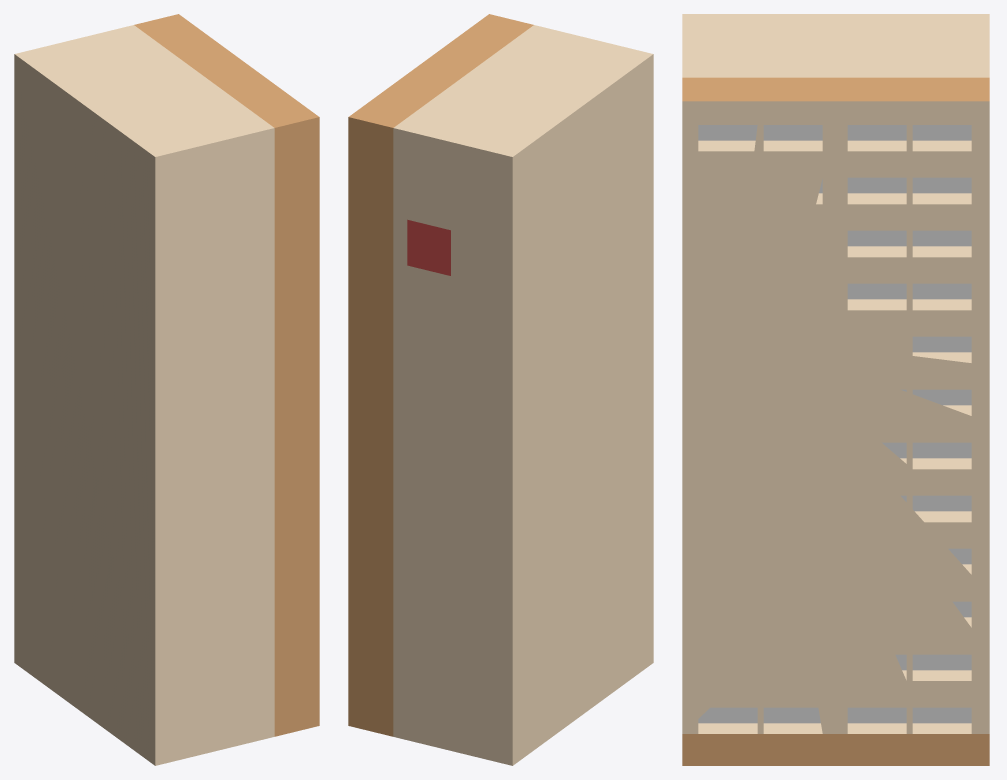
Rendered from Apartment.fbx.
3 renders of one model, left to right at view 1: azimuth 30°, elevation 25°; view 2: azimuth 150°, elevation 25°; view 3: azimuth 270°, elevation 25°, orthographic. The views are drawn at different scales.
Parts seen in each view (by area): view 1: Apartment; view 2: Apartment, Plane; view 3: Apartment, Window.
Part boxes in pixels (box(x1,y1,x2,y2)): Apartment: box(14, 14, 319, 765); Apartment: box(348, 14, 653, 765); Plane: box(407, 219, 450, 275); Apartment: box(682, 14, 989, 765); Window: box(698, 125, 971, 723).
Bounding box in the file's own units: 269 × 954 × 404.
